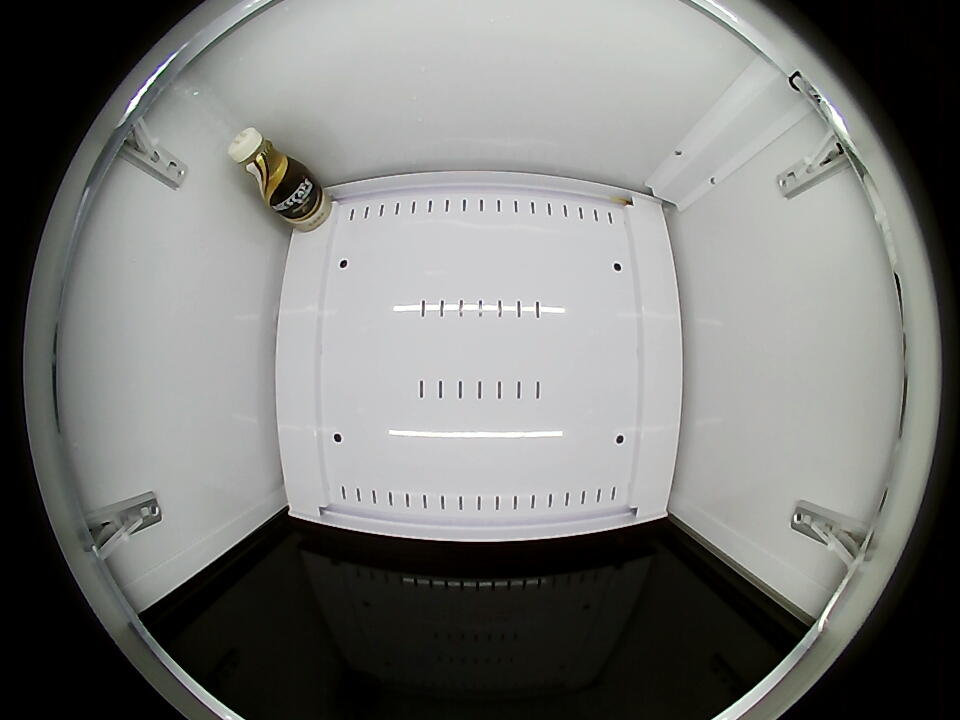kafei: (228, 128, 301, 205)
